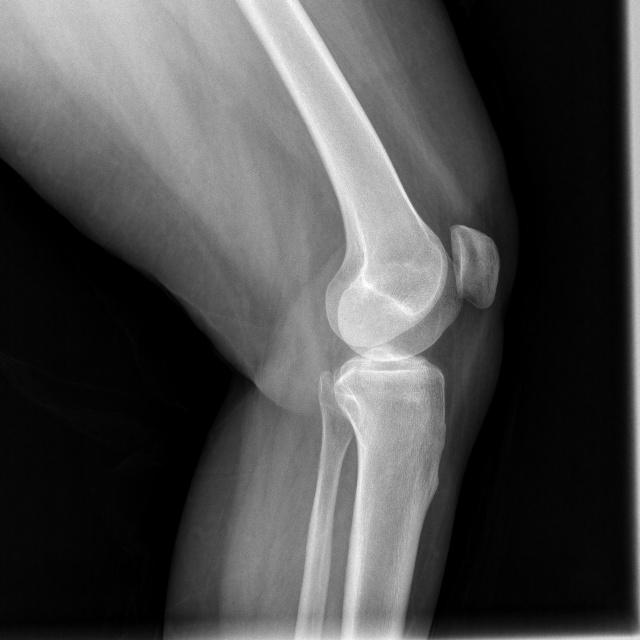Knee: (316, 219, 500, 410)
